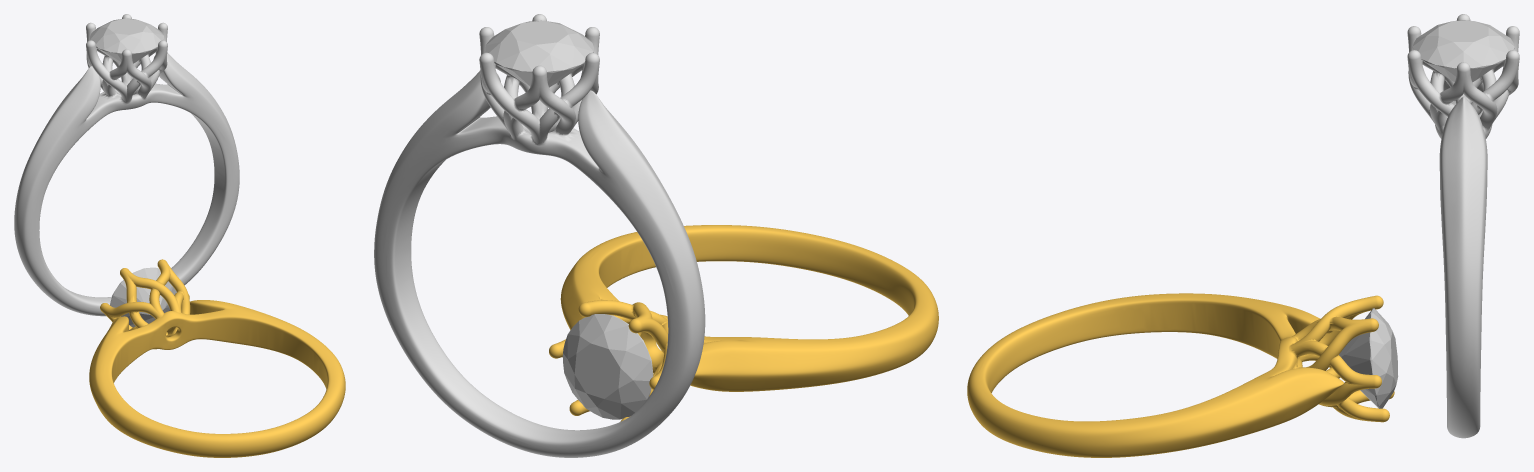
The model's file is ring1.glb.
3 views of the same model, side by side, from view 1: azimuth 30°, elevation 25°; view 2: azimuth 150°, elevation 25°; view 3: azimuth 270°, elevation 25° (orthographic). The views are drawn at different scales.
Parts seen in each view (by area): view 1: 0.8Ct+Bridal+Ring.001, 0.8Ct+Bridal+Ring, Diamond_Large, Diamond_Large.001; view 2: 0.8Ct+Bridal+Ring, 0.8Ct+Bridal+Ring.001, Diamond_Large.001, Diamond_Large; view 3: 0.8Ct+Bridal+Ring.001, 0.8Ct+Bridal+Ring, Diamond_Large, Diamond_Large.001.
Boxes of the visible parts, x1,y1,x2,y2 form: 0.8Ct+Bridal+Ring.001: (89, 259, 345, 457); 0.8Ct+Bridal+Ring: (14, 14, 239, 316); Diamond_Large: (90, 18, 163, 63); Diamond_Large.001: (110, 267, 176, 327); 0.8Ct+Bridal+Ring: (374, 14, 705, 457); 0.8Ct+Bridal+Ring.001: (549, 225, 938, 421); Diamond_Large.001: (562, 314, 653, 419); Diamond_Large: (485, 20, 593, 87); 0.8Ct+Bridal+Ring.001: (967, 293, 1394, 457); 0.8Ct+Bridal+Ring: (1407, 14, 1519, 438); Diamond_Large: (1412, 20, 1514, 82); Diamond_Large.001: (1339, 308, 1398, 408).
Bounding box in the file's own units: 4.71 × 5.25 × 6.66.
